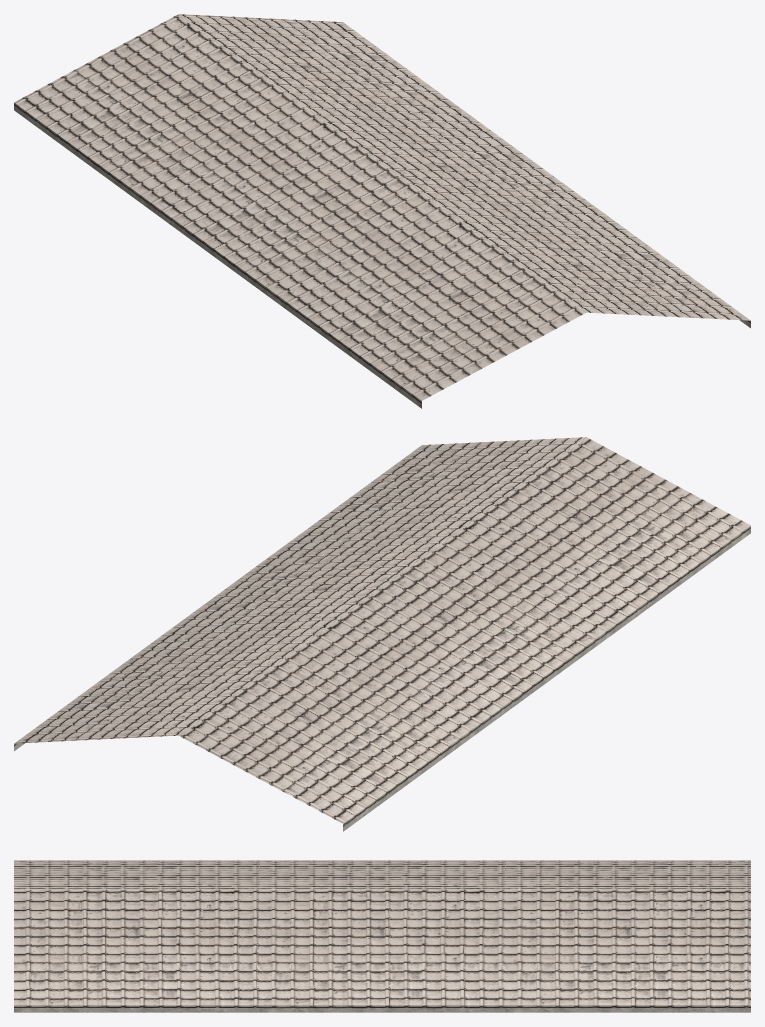
Rendered from parth_roof.dae.
3 views of the same model, one above another, from view 1: azimuth 30°, elevation 25°; view 2: azimuth 150°, elevation 25°; view 3: azimuth 270°, elevation 25° (orthographic). The views are drawn at different scales.
Parts seen in each view (by area): view 1: par_roof_1_-Pivot; view 2: par_roof_1_-Pivot; view 3: par_roof_1_-Pivot.
Part boxes in pixels (<box>): par_roof_1_-Pivot: <box>14,14,750,408</box>; par_roof_1_-Pivot: <box>14,437,750,831</box>; par_roof_1_-Pivot: <box>14,860,750,1012</box>.
Size of the model in its own units: 24.26 by 52.07 by 3.95.
